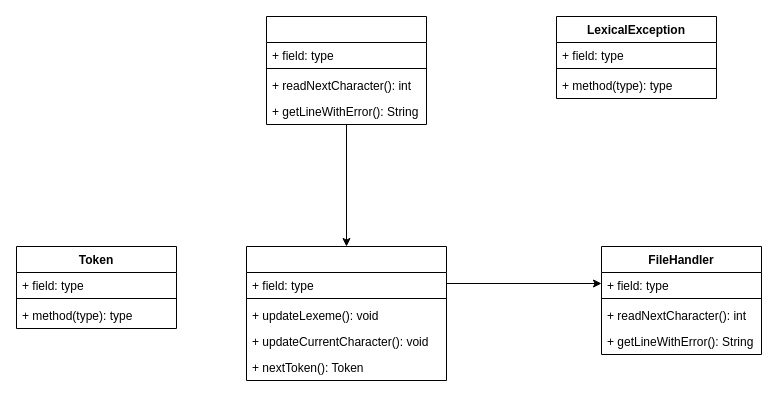
Image size: 778x397. Some labels were removed from this diagram. Here are the shapes that lost their labels. From the top down, the box of each, then its label:
(266, 16, 426, 124): Main
(246, 246, 446, 380): LexicalAnalyzer
